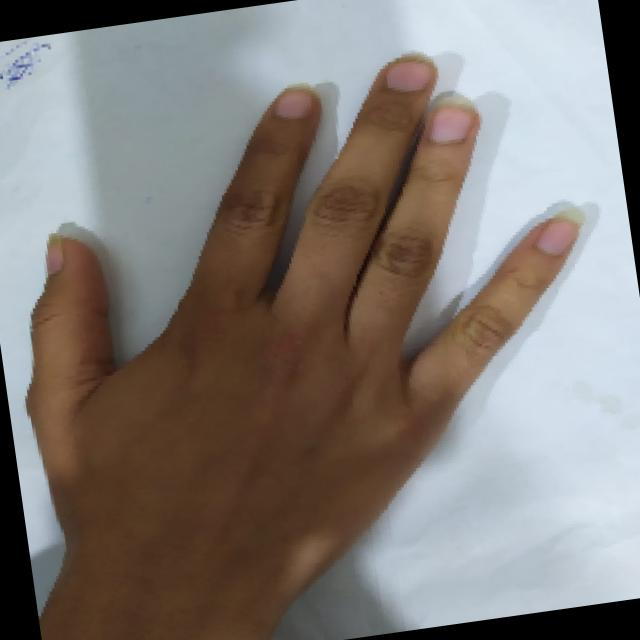Nail: (431, 93, 475, 145), (537, 208, 585, 255), (386, 55, 433, 92), (275, 87, 312, 118), (46, 234, 64, 275)
